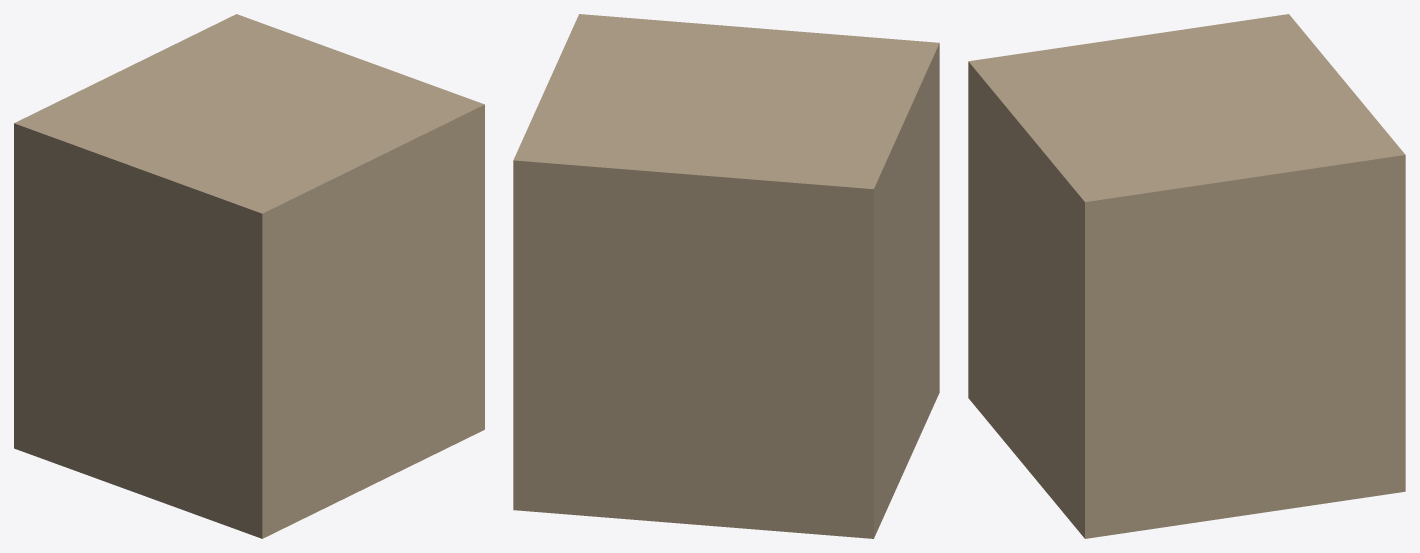
File: bld_108162161.dae
The picture shows the model from 3 angles, left to right: view 1: azimuth 30°, elevation 25°; view 2: azimuth 150°, elevation 25°; view 3: azimuth 270°, elevation 25°; orthographic projection. The views are drawn at different scales.
Parts seen in each view (by area): view 1: bld_108162161; view 2: bld_108162161; view 3: bld_108162161.
Boxes of the visible parts, x1,y1,x2,y2 form: bld_108162161: (14, 14, 484, 538); bld_108162161: (513, 14, 939, 538); bld_108162161: (968, 14, 1405, 538).
Size of the model in its own units: 9.59 by 9.41 by 8.
